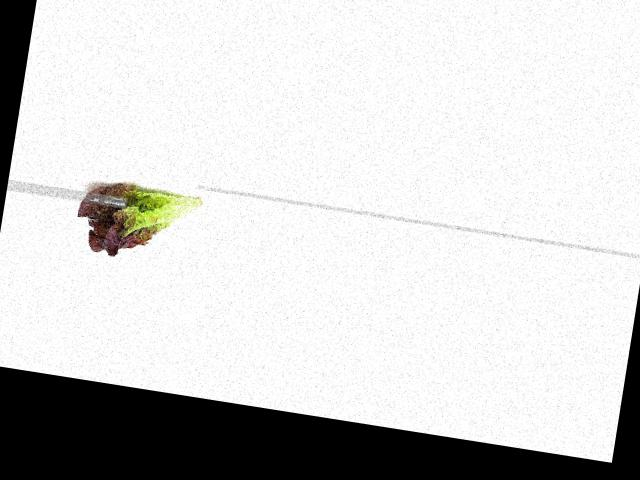lettuce: (69, 171, 209, 270)
